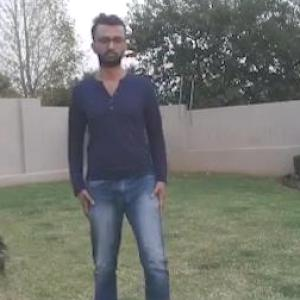follow: (79, 34, 158, 299)
